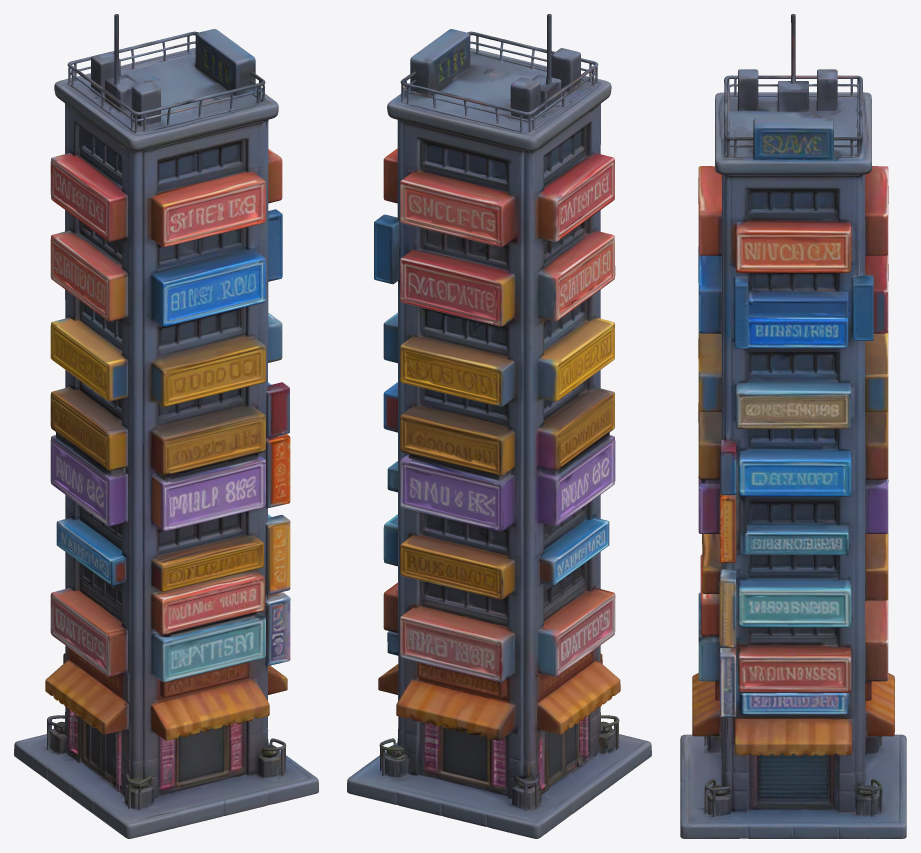
File: A_tall_skinny_mixed-use_tower_plastered_floor-to-roof_with_overlapping_shop_signs_banners_and_stacked_horizontal_neon_boxes.glb
The picture shows the model from 3 angles, left to right: view 1: azimuth 30°, elevation 25°; view 2: azimuth 150°, elevation 25°; view 3: azimuth 270°, elevation 25°; orthographic projection. The views are drawn at different scales.
Visible parts, largest first — view 1: node_0; view 2: node_0; view 3: node_0.
Boxes of the visible parts, left/top/right/bottom form: node_0: left=14, top=14, right=318, bottom=838; node_0: left=347, top=14, right=651, bottom=838; node_0: left=680, top=14, right=906, bottom=838.
Bounding box in the file's own units: 0.2946 × 1.13 × 0.3062.
1 material, 1 textured.
